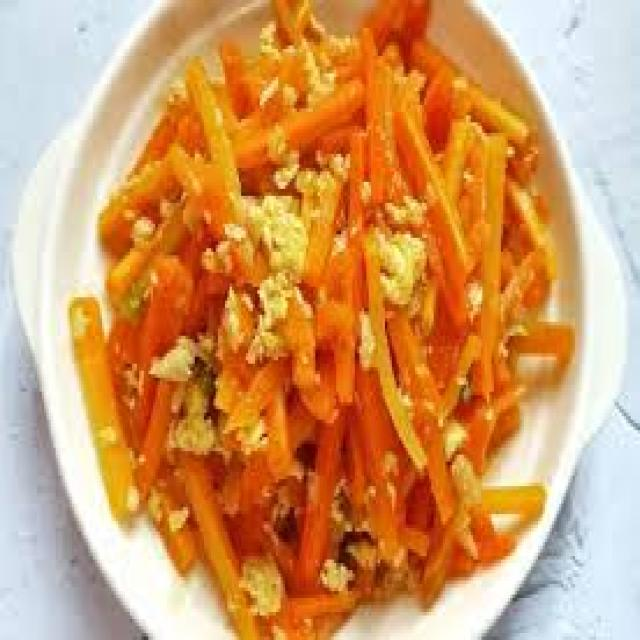telur_orak_arik: (244, 179, 305, 322), (371, 212, 425, 294)
wortel: (82, 26, 555, 597)
